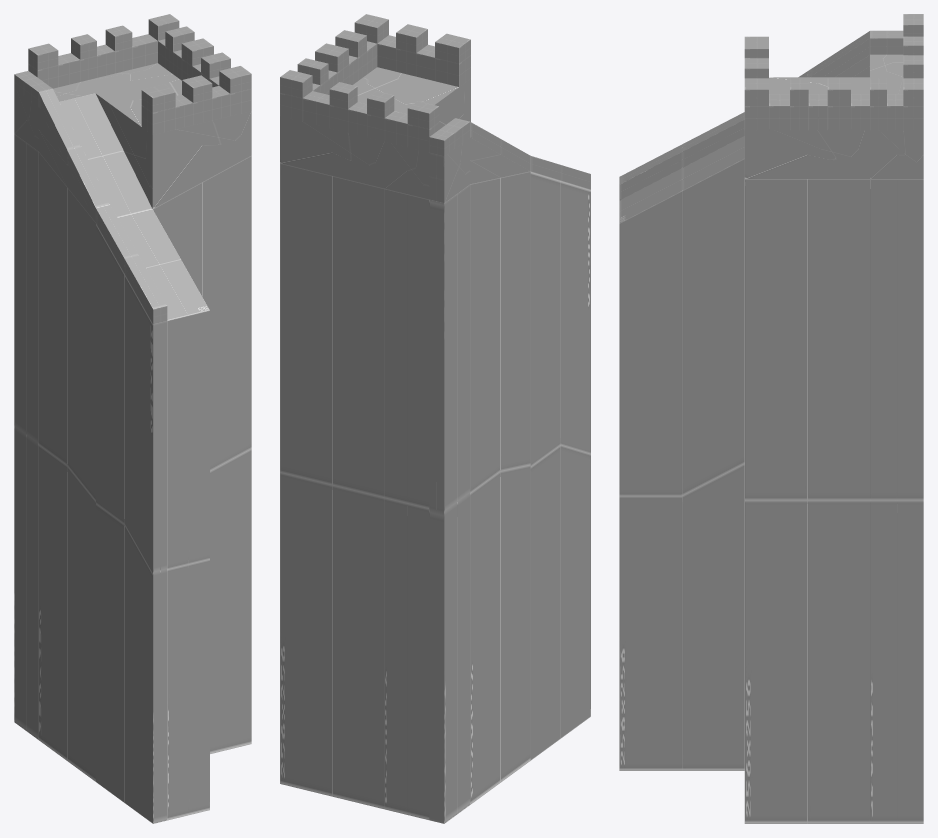
File: wall_tower.glb
3 views of the same model, side by side, from view 1: azimuth 30°, elevation 25°; view 2: azimuth 150°, elevation 25°; view 3: azimuth 270°, elevation 25° (orthographic). The views are drawn at different scales.
Visible parts, largest first — view 1: tower; view 2: tower; view 3: tower.
Boxes of the visible parts, x1,y1,x2,y2 form: tower: [14, 14, 251, 823]; tower: [280, 14, 590, 823]; tower: [619, 14, 923, 823].
Bounding box in the file's own units: 11 × 45.21 × 17.
Materials: 2 (2 with a texture image).
